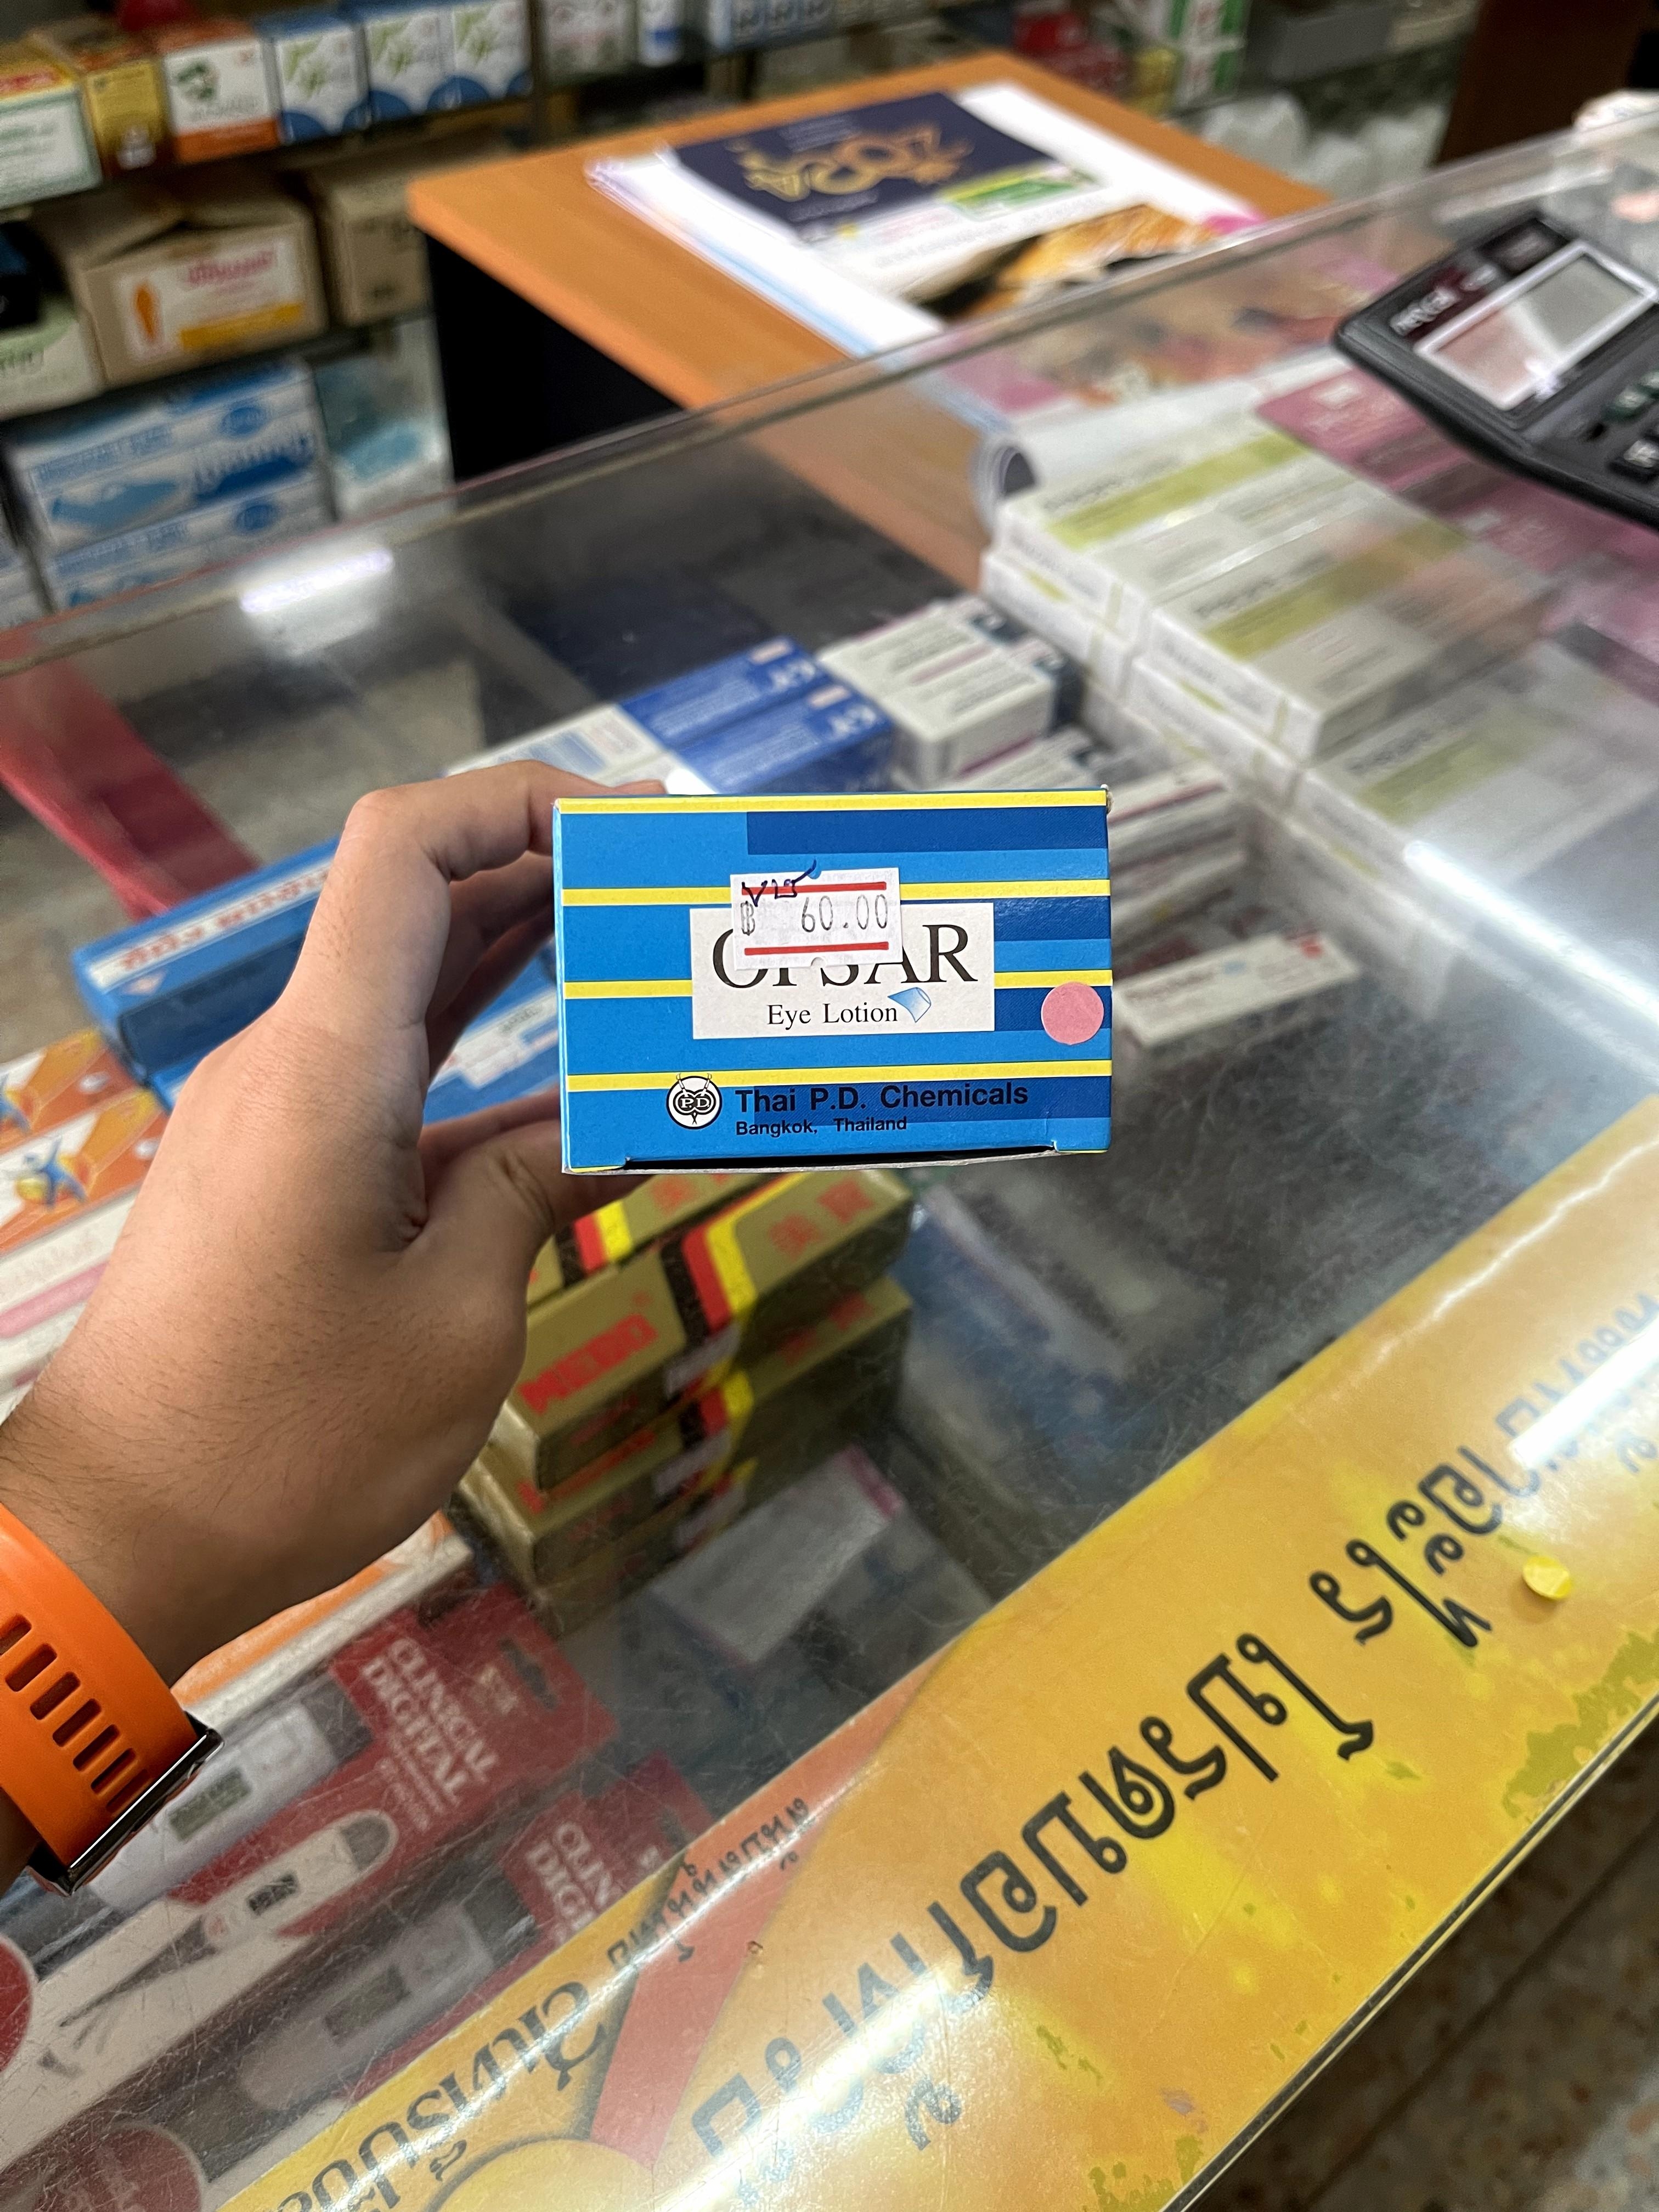Opsar: (558, 787, 1117, 1170)
